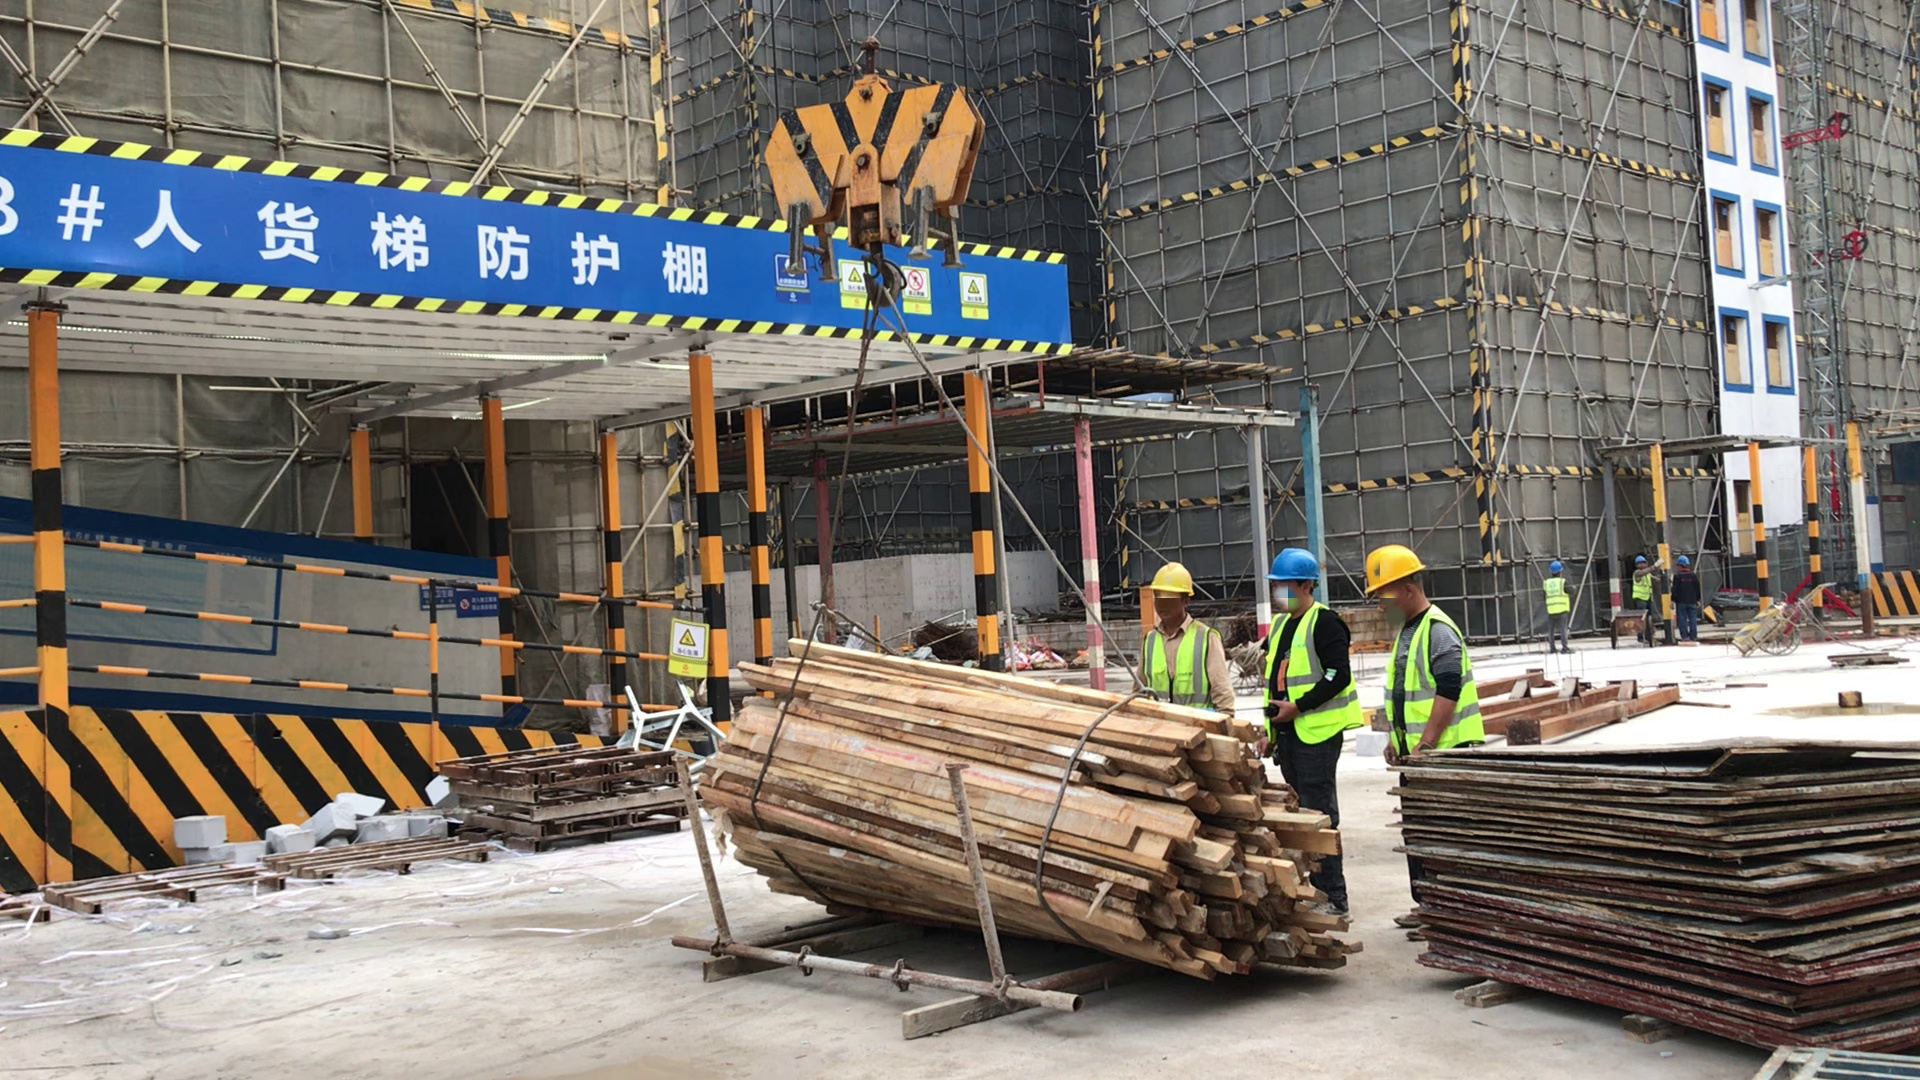board: (1380, 741, 1920, 1063)
handcart: (1724, 584, 1808, 663)
helmet: (1364, 542, 1425, 595), (1263, 547, 1323, 584), (1150, 560, 1196, 593), (1547, 559, 1564, 574), (1677, 553, 1692, 567), (1636, 554, 1646, 563)
hook: (761, 35, 990, 323)
person: (1362, 543, 1501, 944), (1261, 546, 1366, 928), (1129, 559, 1239, 721), (1541, 556, 1579, 659), (1629, 552, 1664, 638), (1671, 554, 1701, 644)
vest: (1379, 608, 1475, 764), (1257, 603, 1361, 744), (1131, 617, 1214, 701)
wood: (694, 625, 1376, 985)
